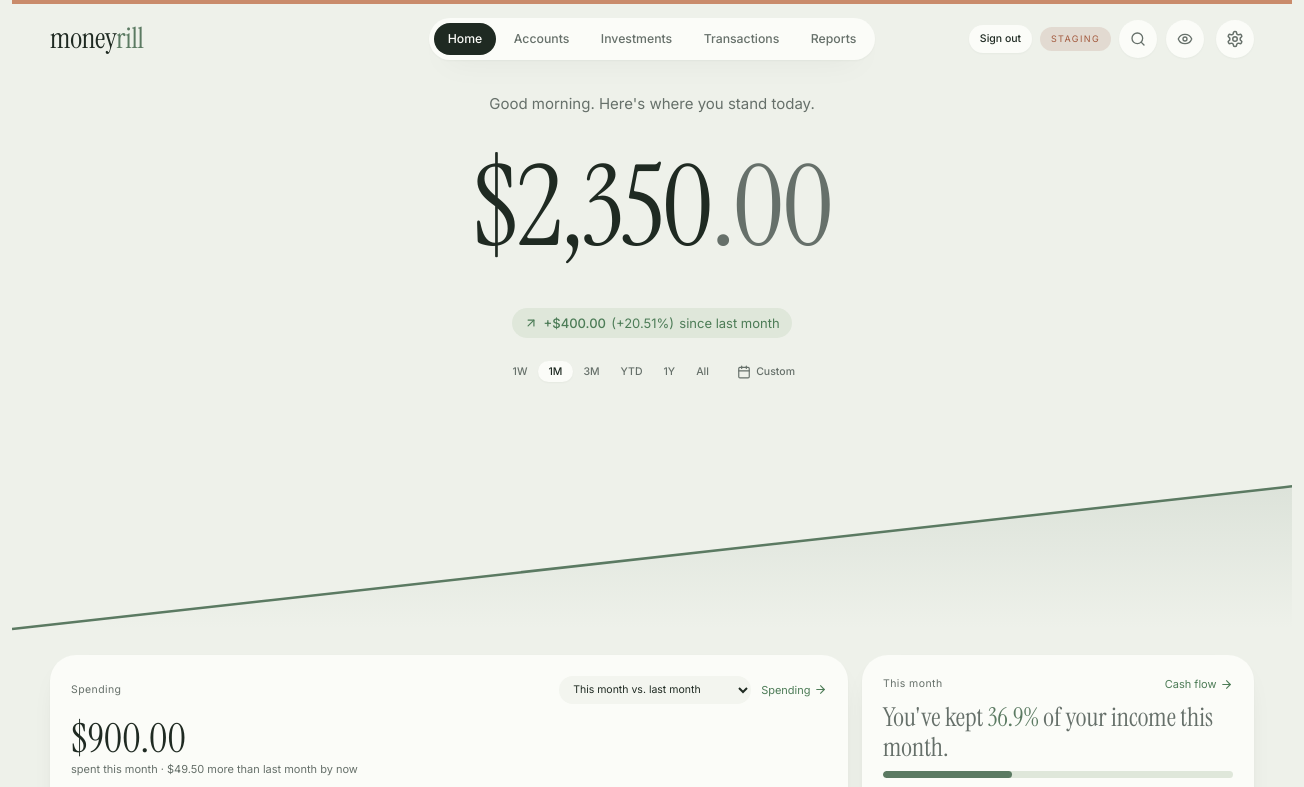
Test: Home spending trend › changing the comparison reloads it and is remembered on this device
The width and height of the screenshot is (1304, 787).
Select "This year vs. last year" in the dropdown named "Compare spending" at (655, 690), box [559,676,751,704]
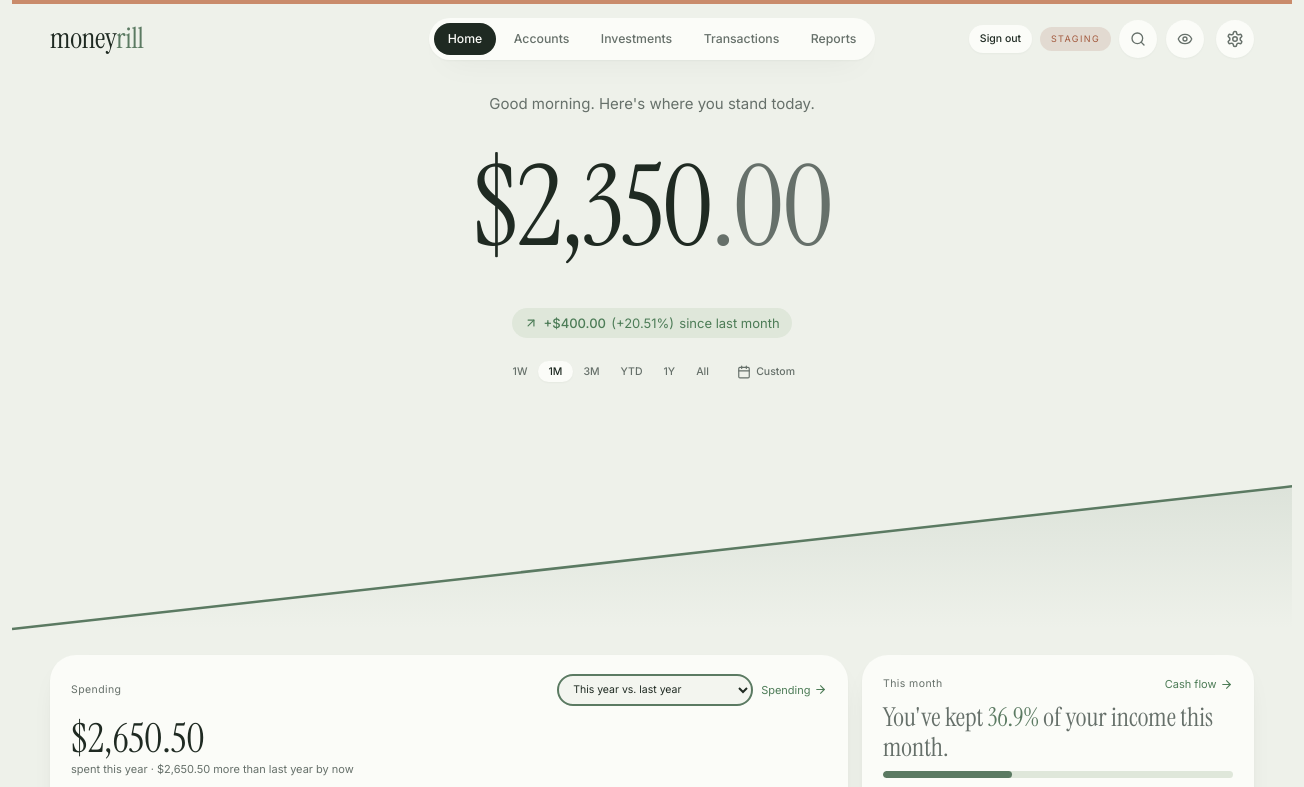
Now the text "spent this year · $2,650.50 more than last year by now" is shown, box [71,762,354,776]
